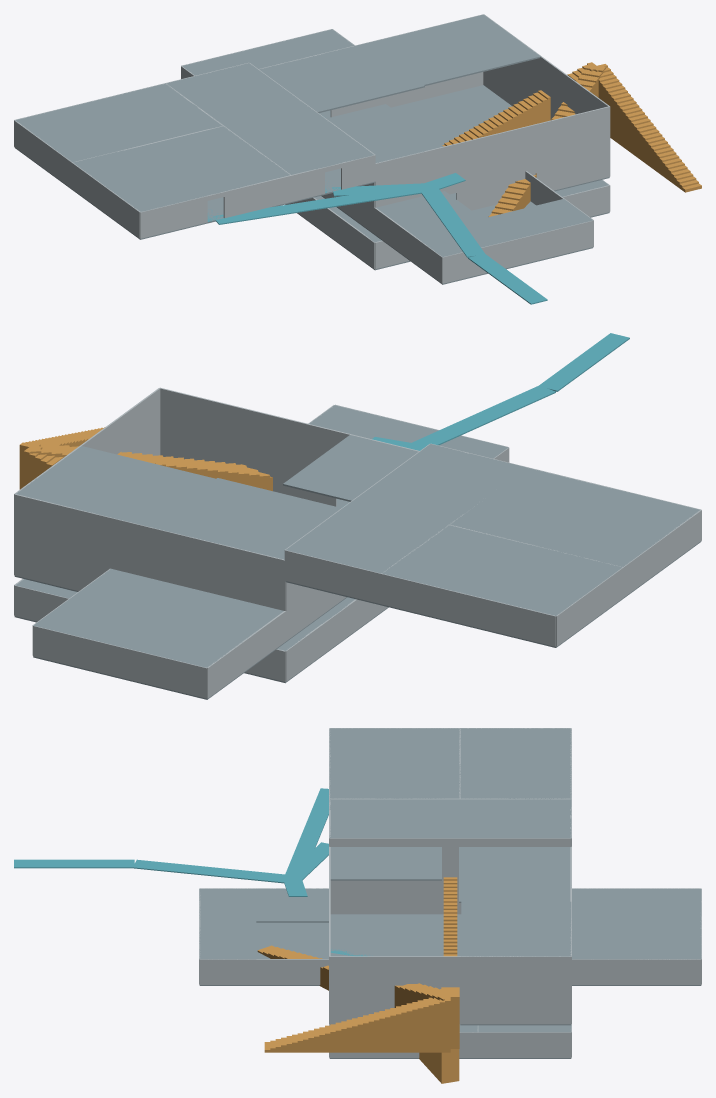
The model's file is rough-shell.glb.
3 renders of one model, top to bottom at view 1: azimuth 30°, elevation 25°; view 2: azimuth 150°, elevation 25°; view 3: azimuth 270°, elevation 25°, orthographic. The views are drawn at different scales.
Visible parts, largest first — view 1: Ceiling cap west-stair, Ceiling cap control, Wall turbine S.001, Ceiling cap office, Wall turbine E, Wall workshop S, Ceiling cap turbine.010, Ceiling cap turbine, Ceiling cap turbine.009, Ceiling cap plant, Ceiling cap turbine.006, Ceiling cap workshop.002 (+30 smaller); view 2: Ceiling cap west-stair, Ceiling cap control, Ceiling cap plant, Wall turbine N.001, Ceiling cap office, Wall turbine S.001, Wall office N, Wall plant N, Ceiling cap turbine.010, Ceiling cap turbine, Ceiling cap turbine.009, Wall turbine N (+19 smaller); view 3: Wall turbine E, Ceiling cap west-stair, Ceiling cap plant, Ceiling cap control, Ceiling cap office, Wall turbine W, Ceiling cap turbine, Wall plant E, Ceiling cap turbine.010, Wall workshop E, Ceiling cap turbine.009, Floor turbine.004 (+17 smaller).
Boxes of the visible parts, box(x1,y1,x2,y2) form: Ceiling cap west-stair: box(166, 63, 374, 174); Ceiling cap control: box(73, 126, 289, 211); Wall turbine S.001: box(456, 106, 609, 210); Ceiling cap office: box(15, 83, 222, 162); Wall turbine E: box(483, 14, 610, 176); Wall workshop S: box(442, 220, 593, 283); Ceiling cap turbine.010: box(422, 14, 540, 72); Ceiling cap turbine: box(259, 55, 375, 111); Ceiling cap turbine.009: box(367, 29, 478, 85); Ceiling cap plant: box(182, 29, 354, 75); Ceiling cap turbine.006: box(319, 43, 422, 96); Ceiling cap workshop.002: box(483, 199, 592, 239); Ceiling cap west-stair: box(286, 444, 526, 573); Ceiling cap control: box(449, 467, 700, 566); Ceiling cap plant: box(33, 568, 283, 667); Wall turbine N.001: box(14, 494, 190, 590); Ceiling cap office: box(382, 525, 622, 615); Wall turbine S.001: box(160, 387, 336, 506); Wall office N: box(381, 573, 555, 646); Wall plant N: box(33, 625, 207, 698); Ceiling cap turbine.010: box(16, 446, 151, 511); Ceiling cap turbine: box(206, 492, 339, 559); Ceiling cap turbine.009: box(87, 463, 215, 526); Wall turbine N: box(205, 541, 285, 610); Wall turbine E: box(329, 956, 571, 1024); Ceiling cap west-stair: box(329, 799, 571, 838); Ceiling cap plant: box(572, 888, 701, 959); Ceiling cap control: box(329, 728, 459, 798); Ceiling cap office: box(459, 728, 571, 798); Wall turbine W: box(330, 847, 461, 914); Ceiling cap turbine: box(461, 847, 570, 879); Wall plant E: box(572, 959, 701, 984); Ceiling cap turbine.010: box(461, 927, 571, 956); Wall workshop E: box(199, 959, 328, 984); Ceiling cap turbine.009: box(461, 901, 571, 927); Floor turbine.004: box(330, 914, 393, 956).
Size of the model in its own units: 63.08 by 13.16 by 74.08.
